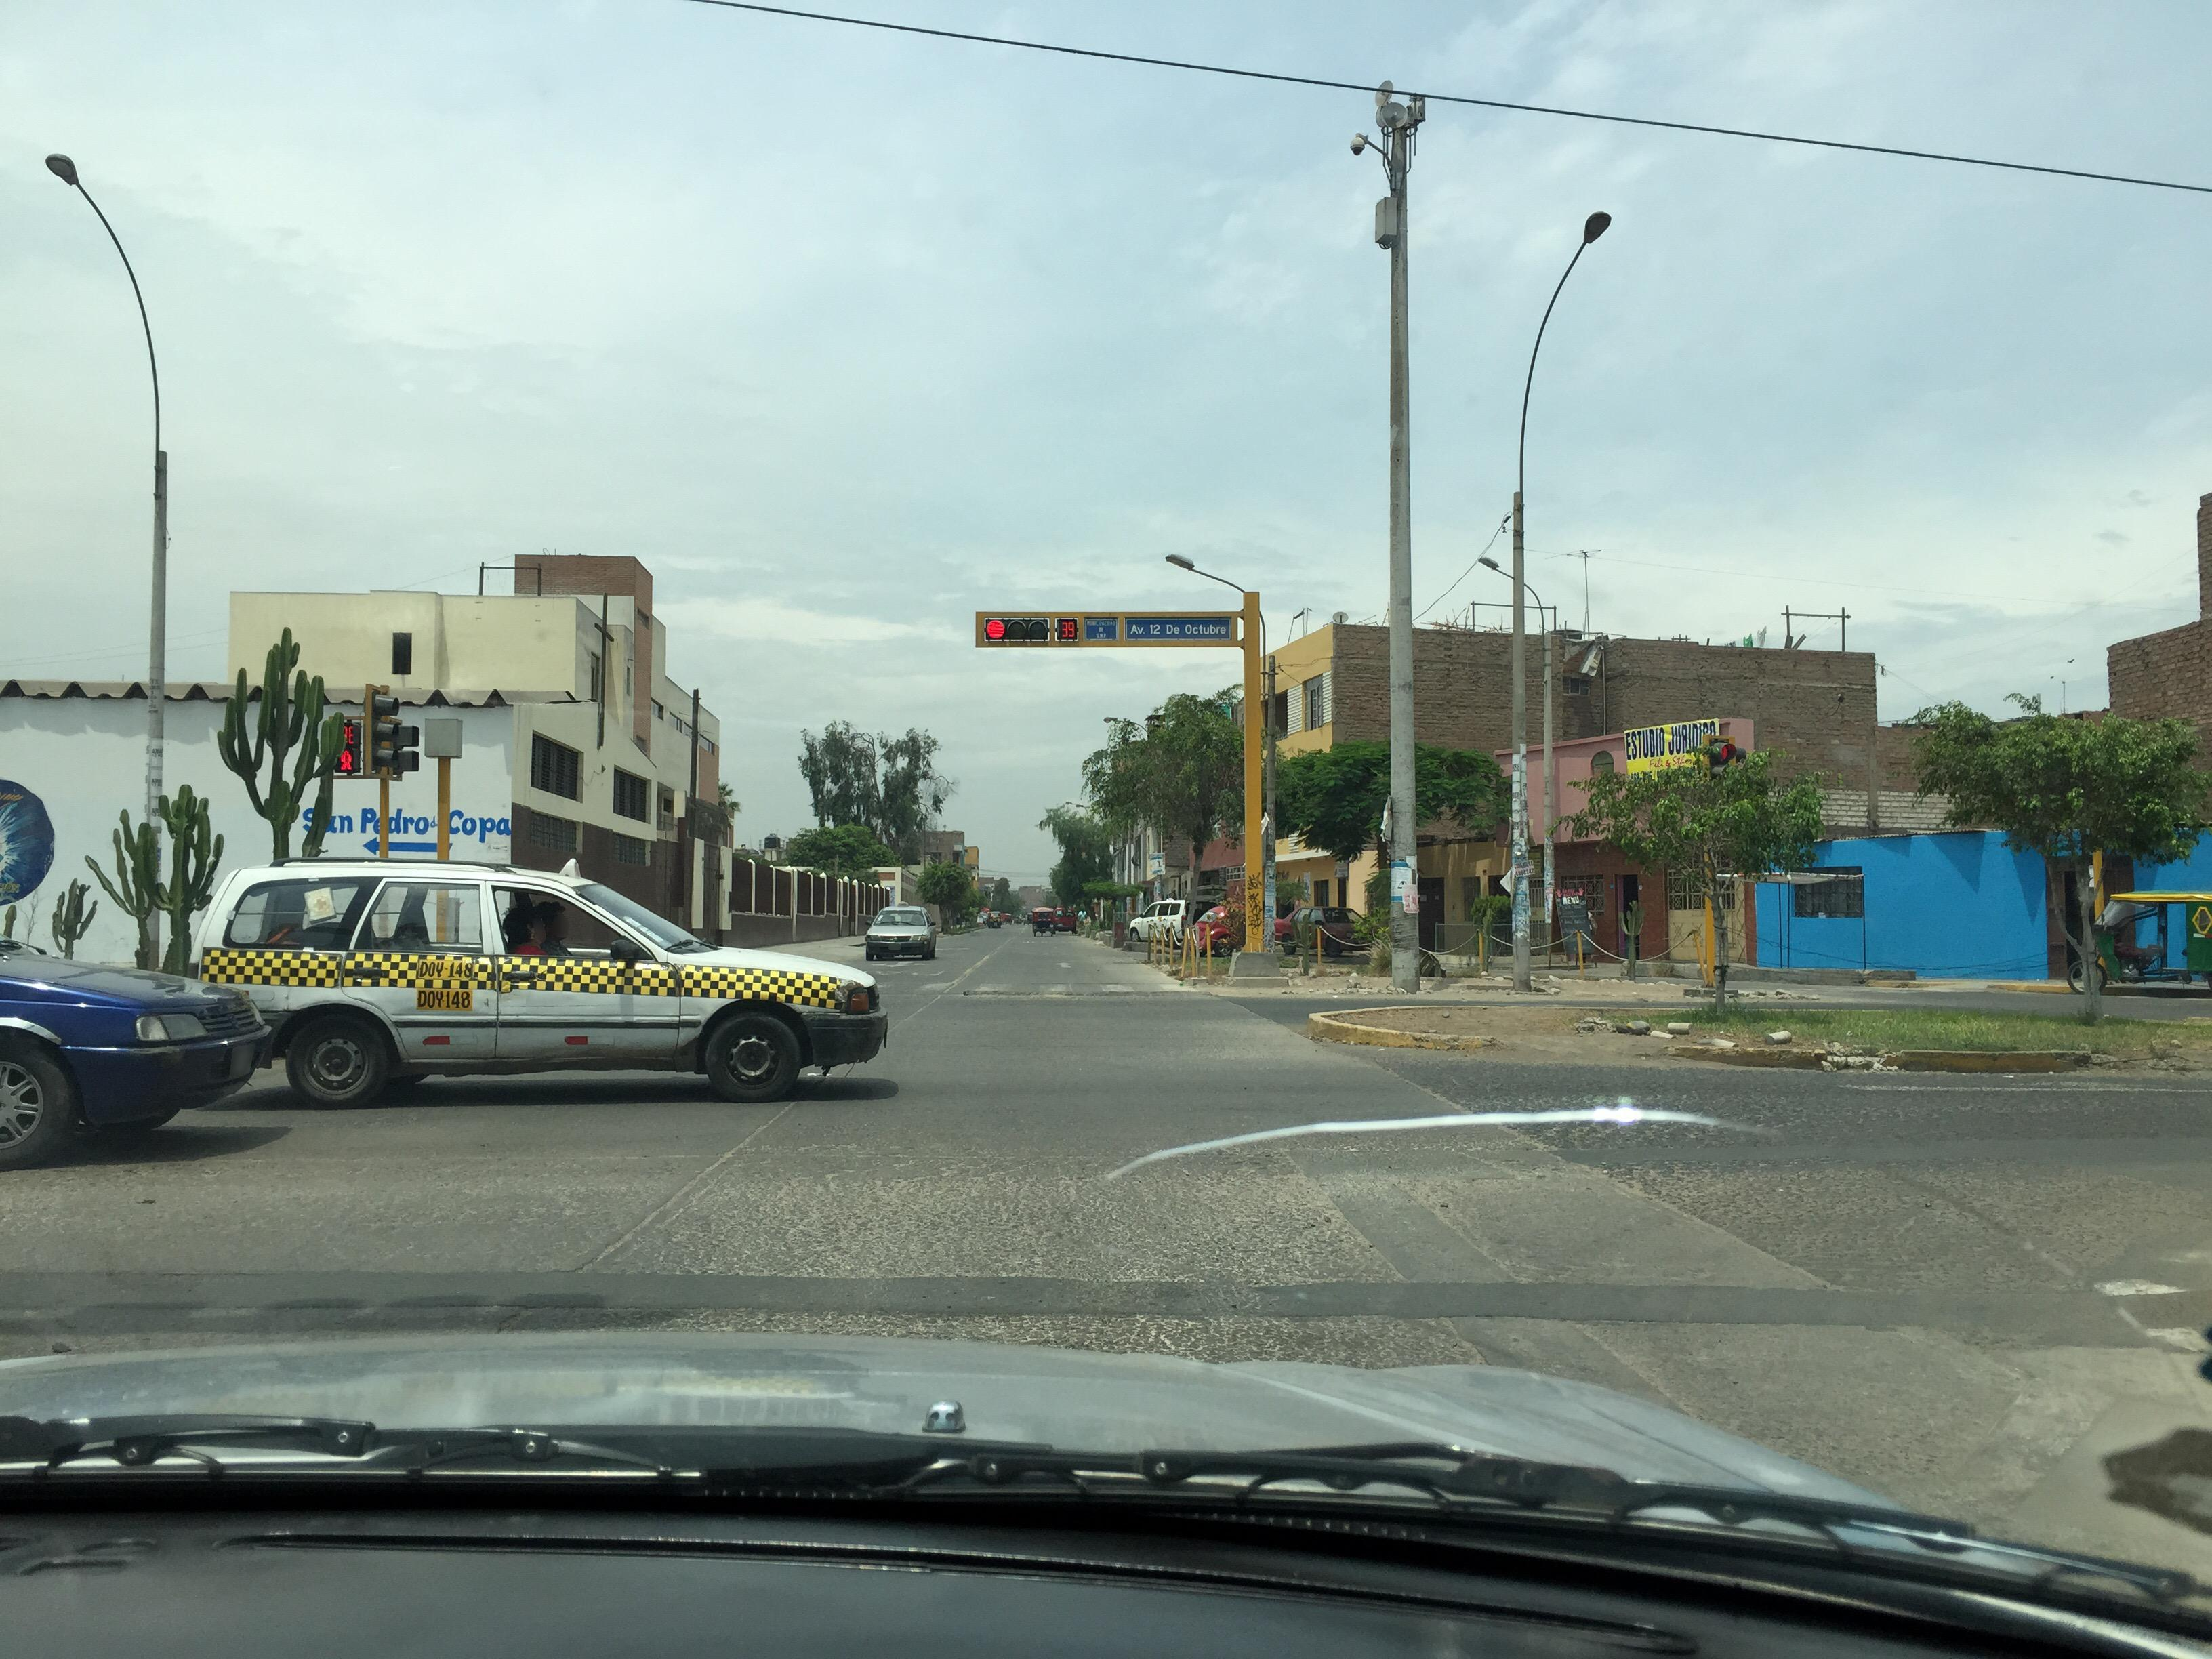vinyl banner: (1609, 701, 1731, 779)
